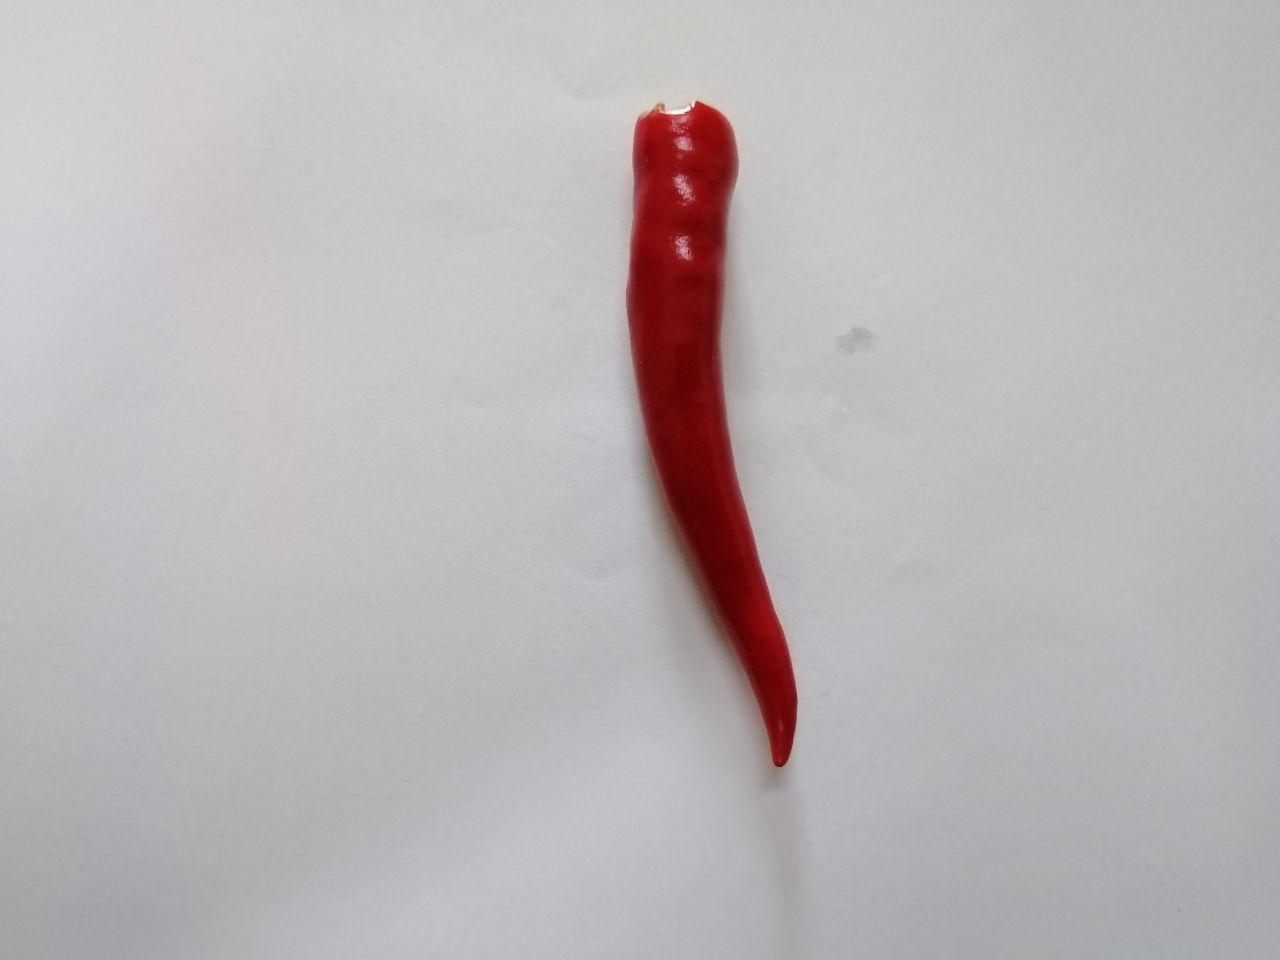lada merah: (612, 81, 859, 796)
